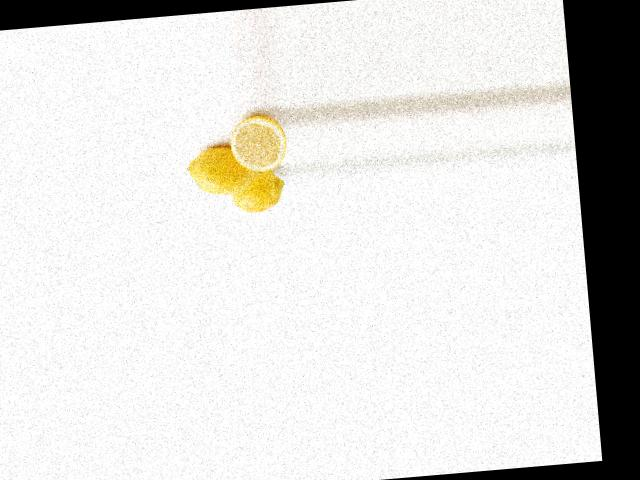lemon: (225, 167, 290, 216)
